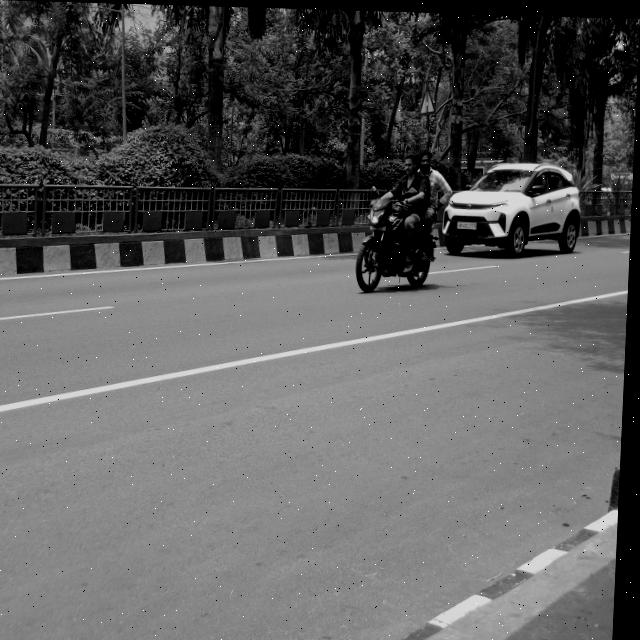bike: (351, 190, 445, 293)
car: (448, 155, 593, 268)
